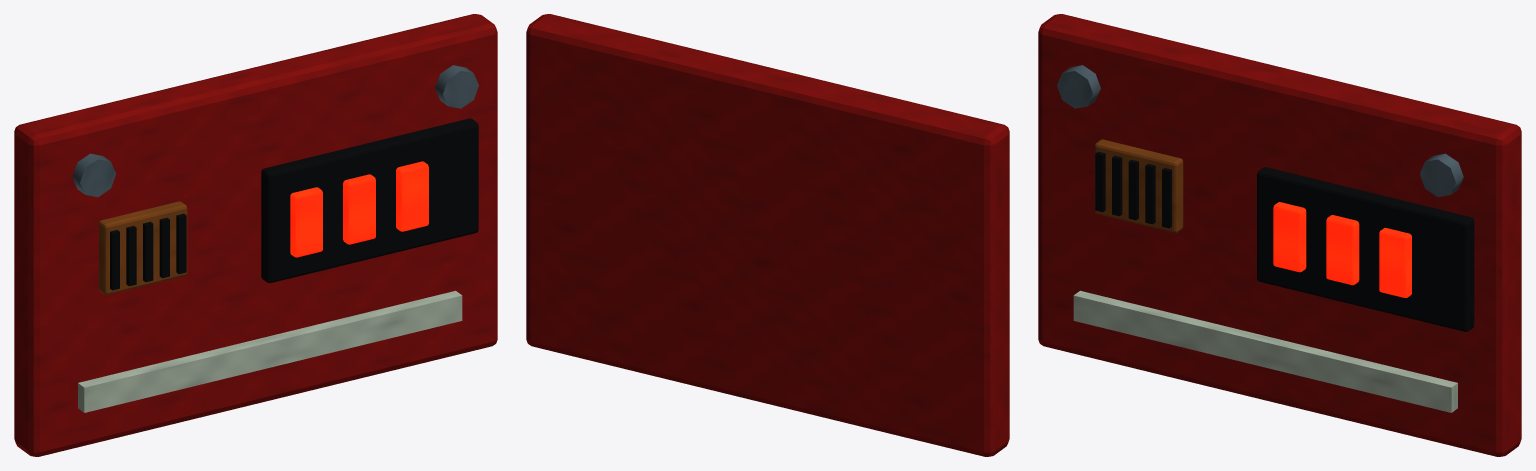
The model's file is keycard_red.glb.
3 views of the same model, side by side, from view 1: azimuth 30°, elevation 25°; view 2: azimuth 150°, elevation 25°; view 3: azimuth 330°, elevation 25° (orthographic).
Visible parts, largest first — view 1: keycard_red; view 2: keycard_red; view 3: keycard_red.
Boxes of the visible parts, <box> form: keycard_red: <box>14,14,497,456</box>; keycard_red: <box>526,14,1009,456</box>; keycard_red: <box>1038,14,1521,456</box>.
Size of the model in its own units: 0.31 by 0.204 by 0.0395.
6 materials, 6 textured.
